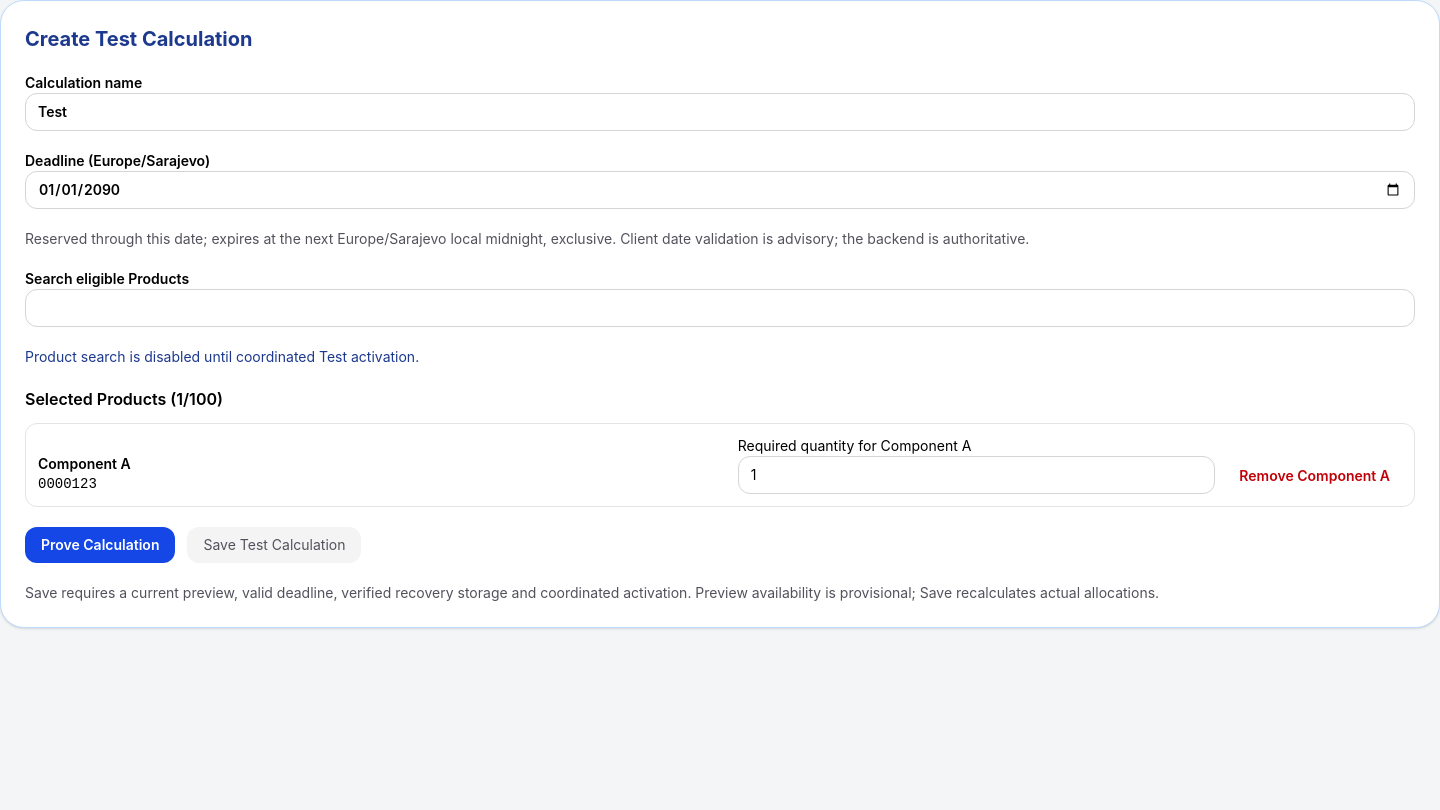
it: Test Calculation editor › rejects invalid quantity 1.2 visibly
Replace the text in the field labelled "Required quantity for Component A" with "1.2": coordinates (976, 475) [738,456,1215,494]
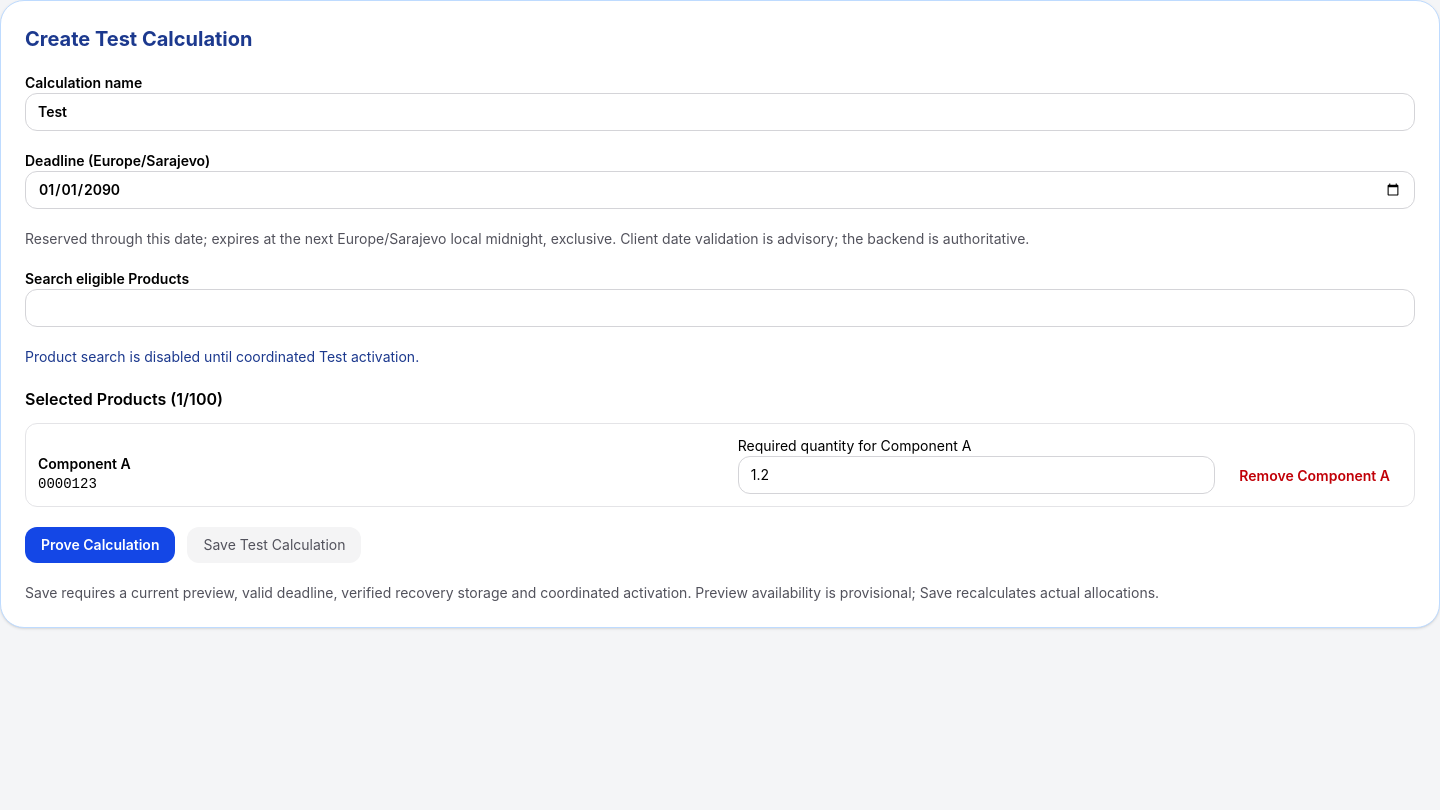
Click the button "Prove Calculation": coordinates (100, 545) [25,527,176,563]
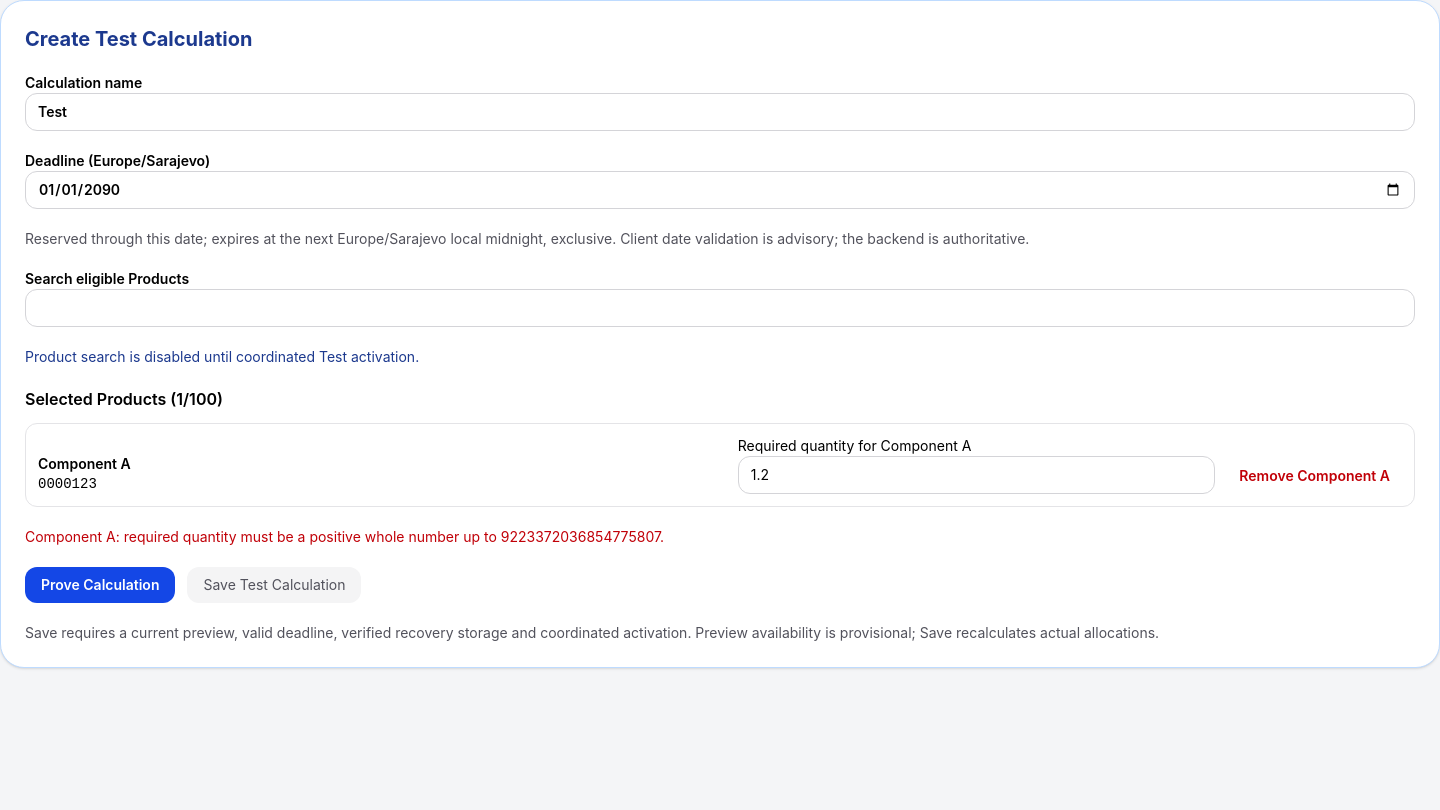
Expected: the message shows "positive whole number", [25,528,664,545]
